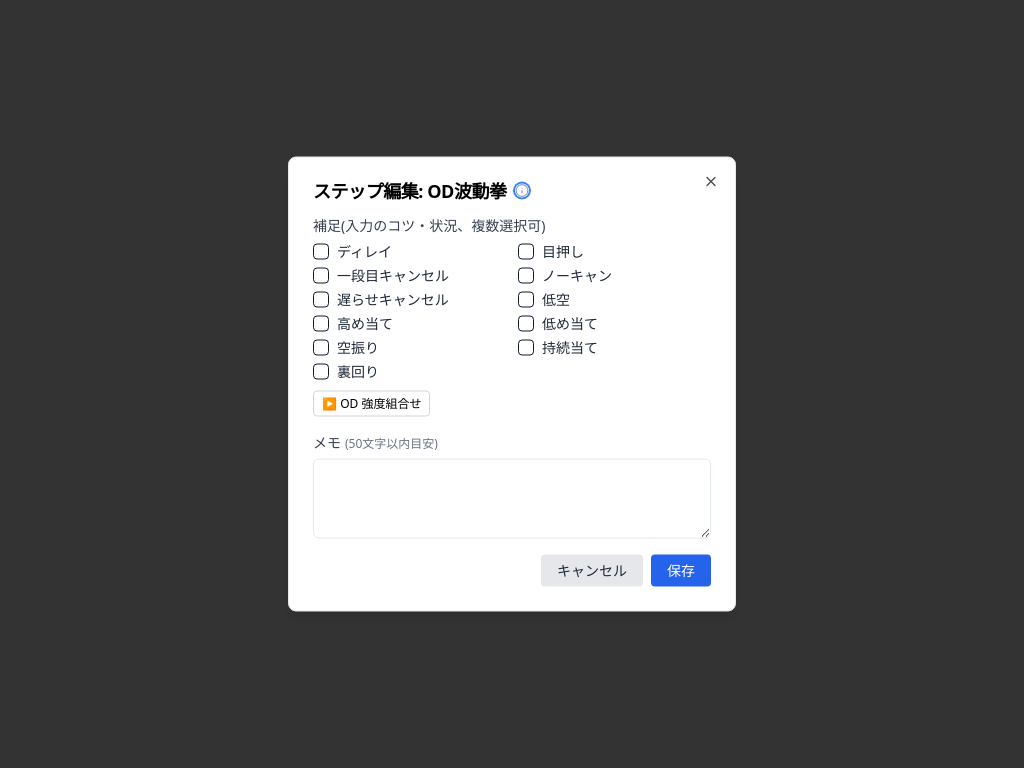
it: ModifiersEditor M15-03 追加 flags(OD組・一段目キャンセル・垂直/前ジャンプ中) › ★展開すると OD 強度組合せが 3 つとも出る(SD-020)
This screenshot has width=1024, height=768.
Click the button "▶ OD 強度組合せ" at (372, 404), box x1=313 y1=390 x2=430 y2=416
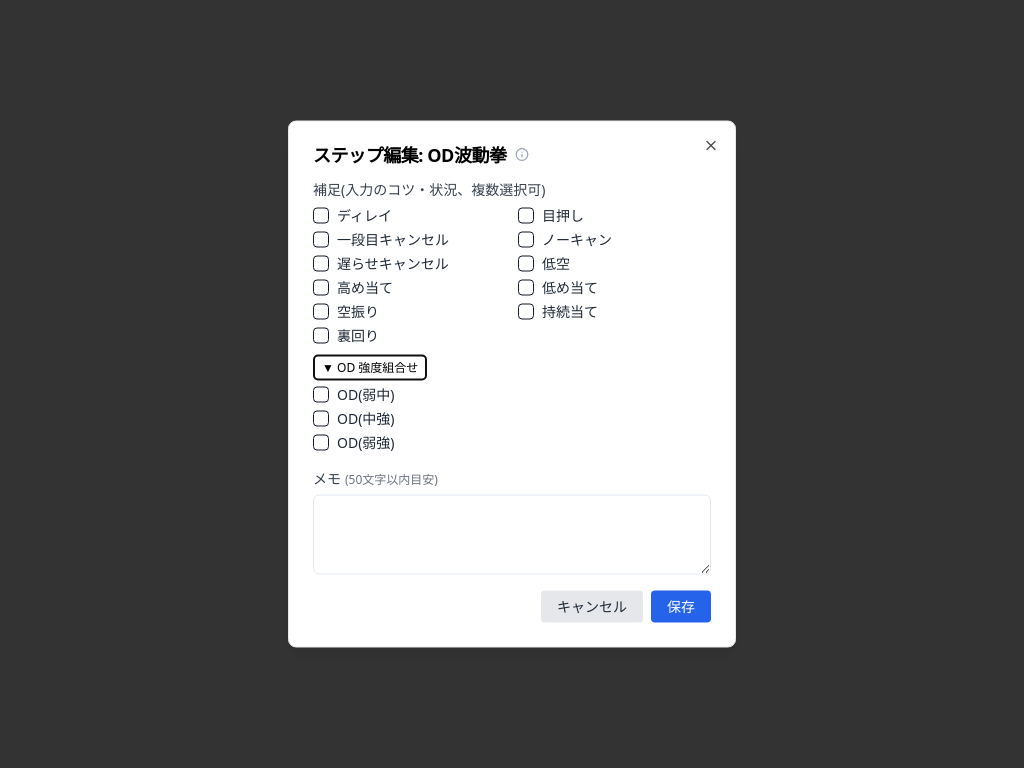
Now the text "OD(弱中)" is shown, box x1=313 y1=384 x2=395 y2=404
Now the text "OD(中強)" is shown, box x1=313 y1=408 x2=395 y2=428
Now the text "OD(弱強)" is shown, box x1=313 y1=432 x2=395 y2=452
